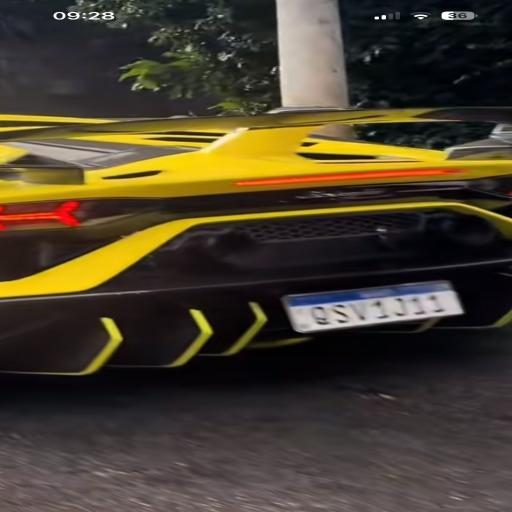detec-o-placas: (208, 227, 512, 365)
